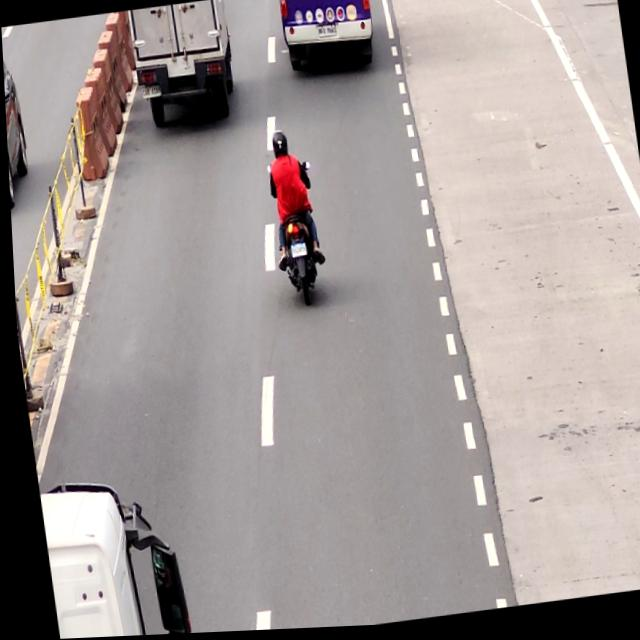Bus: (275, 0, 374, 78)
License-Plate: (285, 241, 306, 261)
Motorcycle: (256, 122, 322, 312)
Truck: (32, 471, 171, 640), (124, 0, 241, 131)
